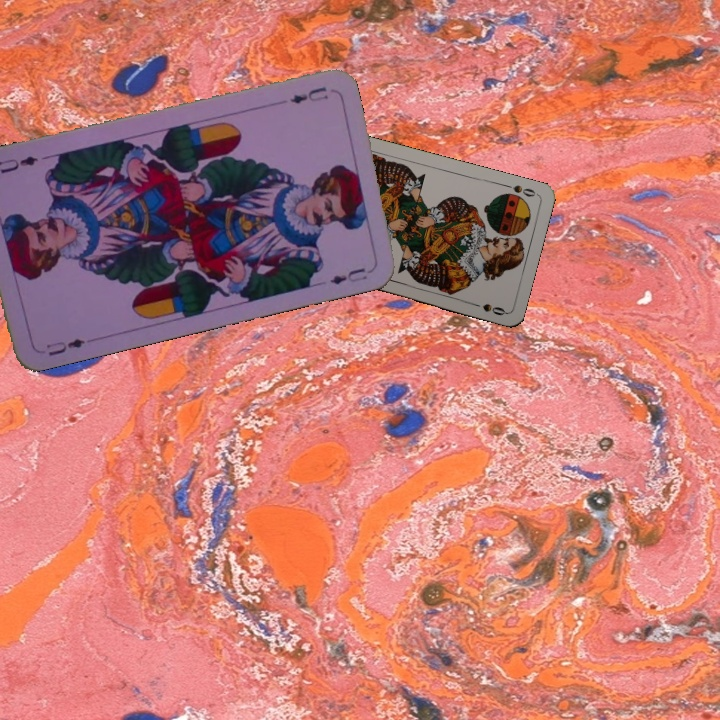EU: (42, 334, 88, 359), (286, 83, 331, 107)
SO: (500, 180, 540, 200)
